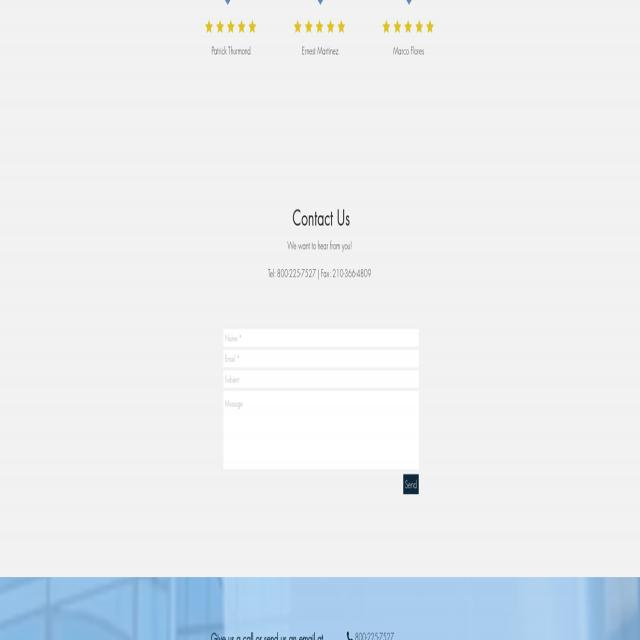button: (403, 474, 419, 494), (205, 19, 213, 33), (216, 19, 224, 33), (227, 19, 235, 33), (248, 19, 256, 33), (294, 19, 302, 33), (305, 19, 313, 33), (337, 19, 345, 33), (382, 19, 390, 33), (404, 19, 412, 33), (415, 19, 423, 33), (426, 19, 434, 33), (238, 19, 245, 33), (316, 19, 323, 33), (327, 19, 334, 33), (394, 19, 401, 33)
field: (223, 390, 419, 470), (223, 370, 419, 388), (223, 329, 419, 346), (223, 350, 419, 367)
